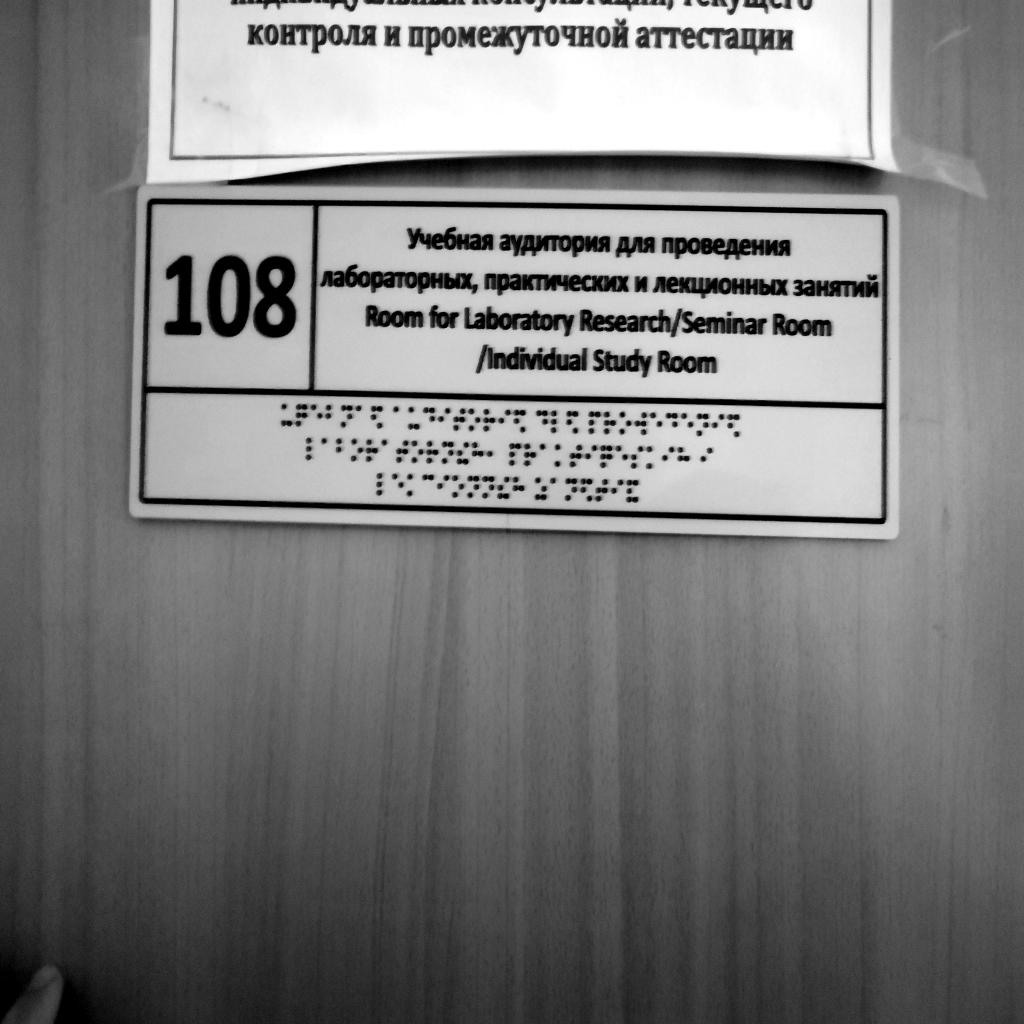_n: (696, 412, 710, 438), (441, 441, 453, 465), (482, 476, 494, 500), (565, 478, 577, 502), (467, 475, 479, 498), (341, 405, 352, 430)
_y: (281, 403, 293, 427), (408, 407, 420, 430)
a: (320, 438, 334, 462), (538, 443, 551, 467), (549, 477, 562, 501), (355, 405, 367, 430), (380, 439, 393, 462), (393, 406, 405, 429)
b: (335, 437, 350, 462), (327, 405, 338, 429)
c: (422, 473, 434, 497)
ch: (599, 444, 613, 469), (295, 403, 307, 428)
d: (535, 409, 548, 435), (665, 411, 678, 437), (423, 407, 435, 431)
e: (680, 412, 695, 439), (649, 411, 663, 437), (391, 473, 405, 497), (615, 444, 628, 469), (311, 404, 322, 429)
i: (700, 446, 714, 472), (712, 412, 725, 438), (662, 445, 675, 470), (498, 409, 511, 433), (584, 444, 597, 468), (438, 407, 450, 431), (611, 479, 623, 503), (437, 474, 449, 497)
iKratkoe: (626, 479, 639, 504)
ii: (456, 441, 469, 467), (498, 476, 510, 500)
k: (645, 445, 660, 470), (554, 443, 568, 469), (406, 473, 420, 498)
l: (551, 410, 565, 435), (305, 437, 319, 462), (376, 472, 390, 497)
o: (350, 438, 364, 463), (620, 410, 632, 436), (410, 440, 423, 464), (468, 408, 480, 432), (452, 474, 464, 498)
p: (508, 442, 522, 467), (588, 410, 601, 435)
r: (426, 440, 439, 466), (603, 411, 617, 435), (524, 442, 536, 468), (366, 438, 378, 463), (483, 409, 495, 433)
s: (631, 445, 644, 469)
t: (396, 438, 409, 464), (570, 444, 582, 468), (596, 479, 608, 503), (454, 408, 465, 432)
v: (634, 411, 646, 436)
x: (677, 445, 690, 471), (471, 441, 484, 466), (512, 476, 525, 500)
ya: (727, 412, 741, 439), (565, 410, 579, 436), (514, 409, 527, 435), (581, 477, 593, 502), (371, 405, 383, 429)
z: (533, 476, 547, 501)
zapyataya: (485, 441, 499, 466)
